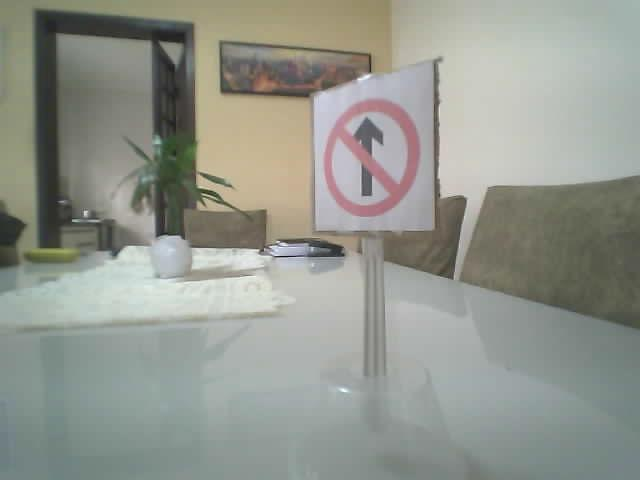R-3_sentido-proibido: (324, 97, 420, 217)
